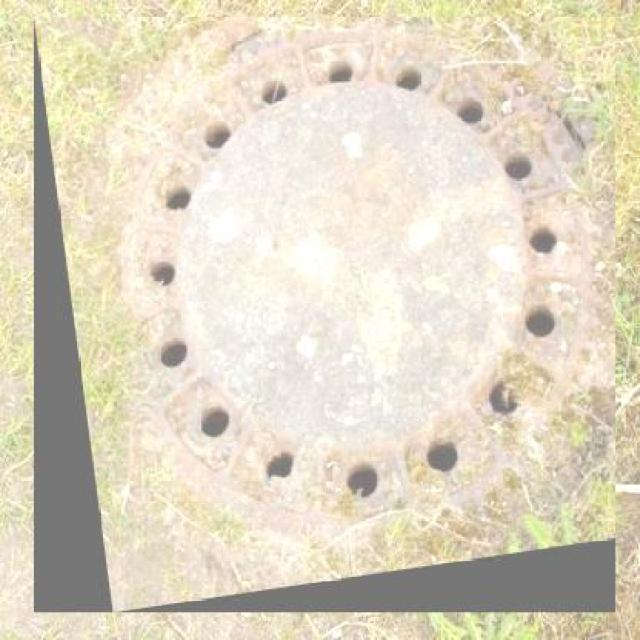Manhole: (34, 16, 616, 612)
